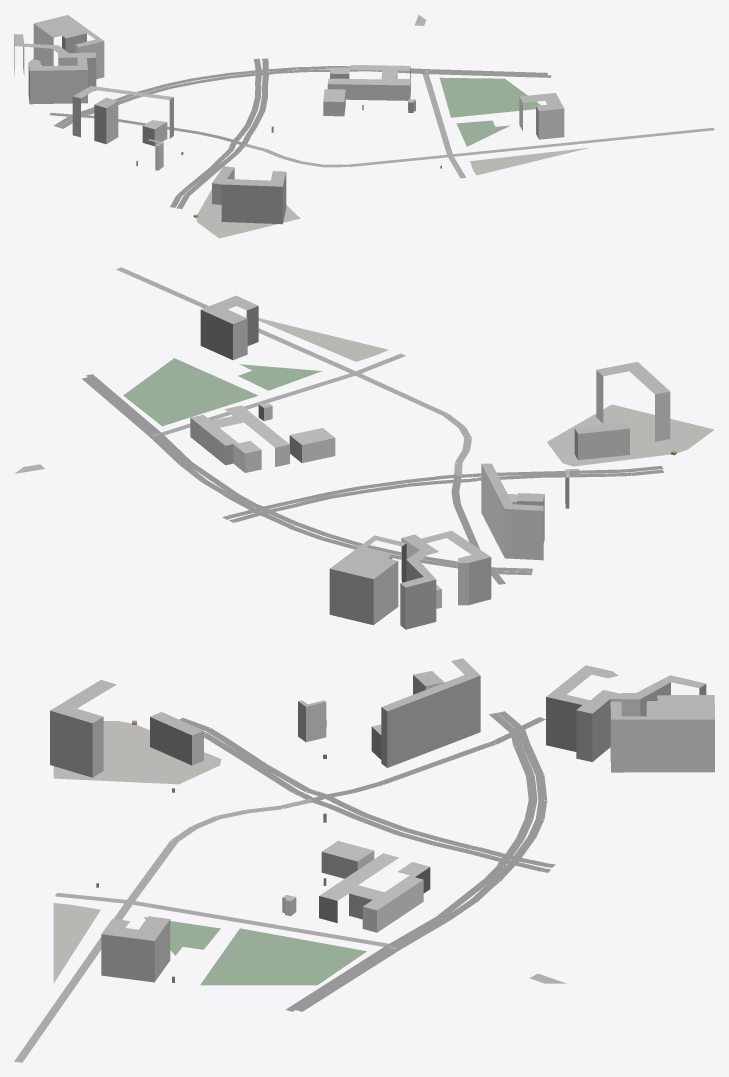
3 renders of one model, top to bottom at view 1: azimuth 30°, elevation 25°; view 2: azimuth 150°, elevation 25°; view 3: azimuth 270°, elevation 25°, orthographic. The views are drawn at different scales.
Size of the model in its own units: 657 by 51.54 by 555.
